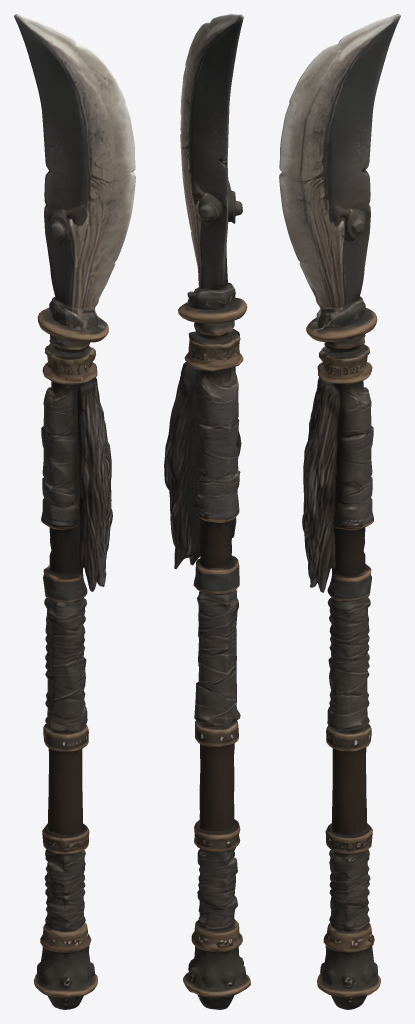
Rendered from look-weapon-t8-tripo.glb.
3 views of the same model, side by side, from view 1: azimuth 90°, elevation 25°; view 2: azimuth 210°, elevation 25°; view 3: azimuth 270°, elevation 25° (orthographic).
Parts seen in each view (by area): view 1: tripo_node_81a6b270-85d2-4c30-b65e-7f2b9624a21c; view 2: tripo_node_81a6b270-85d2-4c30-b65e-7f2b9624a21c; view 3: tripo_node_81a6b270-85d2-4c30-b65e-7f2b9624a21c.
Part boxes in pixels (left/top/right/bottom): tripo_node_81a6b270-85d2-4c30-b65e-7f2b9624a21c: left=14, top=14, right=135, bottom=1009; tripo_node_81a6b270-85d2-4c30-b65e-7f2b9624a21c: left=164, top=14, right=250, bottom=1009; tripo_node_81a6b270-85d2-4c30-b65e-7f2b9624a21c: left=279, top=14, right=400, bottom=1009.
Bounding box in the file's own units: 0.0751 × 1 × 0.1114.
1 material, 1 textured.
